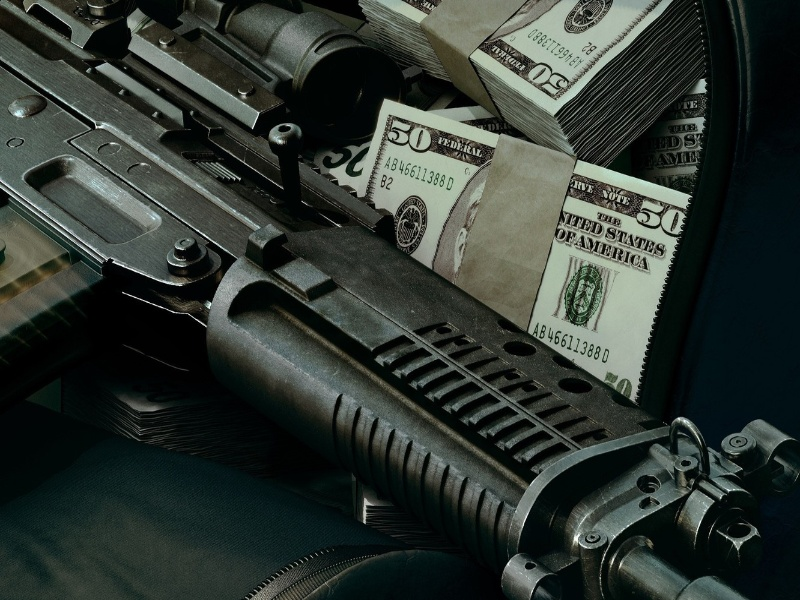cash: (357, 99, 690, 403), (355, 1, 707, 165)
weapon: (1, 1, 800, 600)
